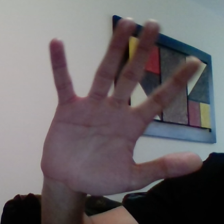left: (32, 14, 210, 191)
